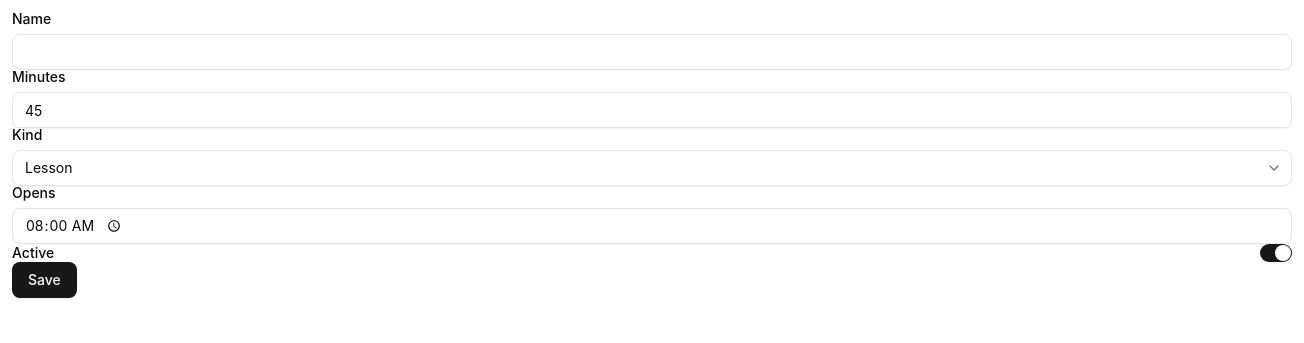
Test: form field components › shows 400 validation_error details inline next to the field
The image size is (1304, 343).
Type "Mitte" into the field labelled "Name" at point(652, 52), box 12,34 -> 1292,70
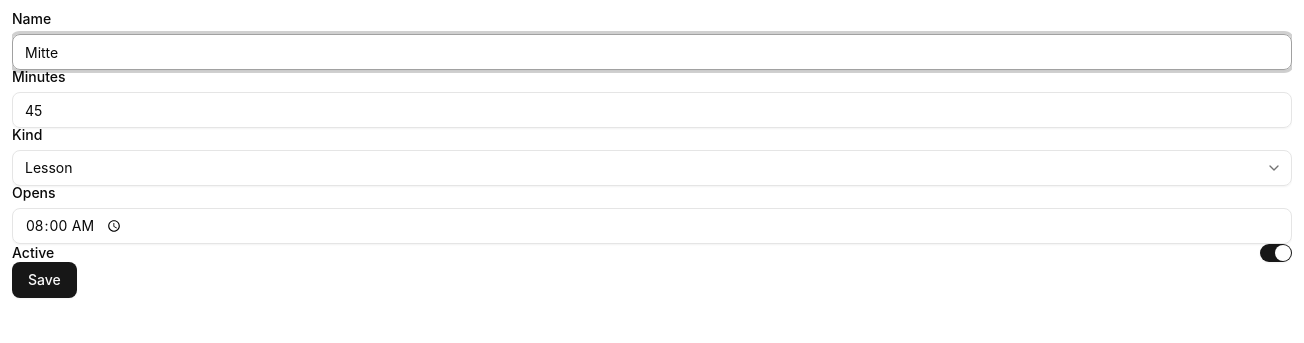
Click the button "Save" at point(44, 280), box 12,262 -> 77,298
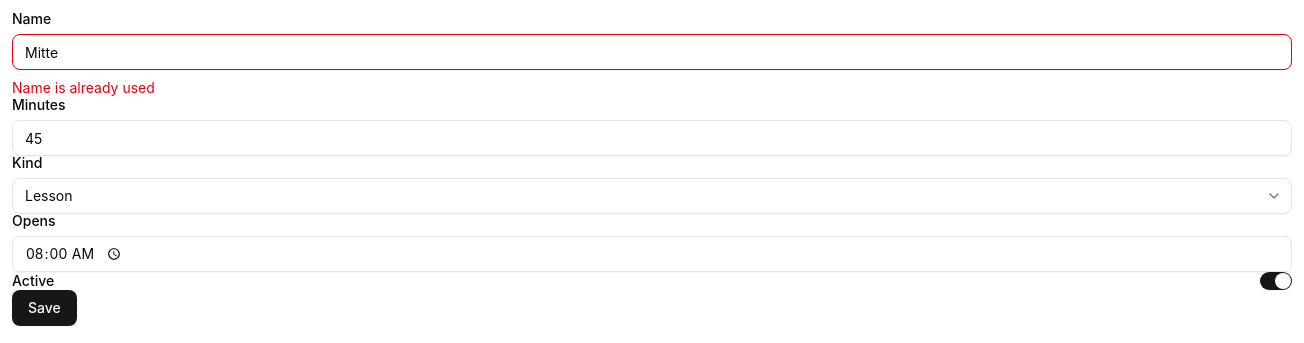
Now the text "Name is already used" is shown, box 12,79 -> 155,96
Type "2" into the field labelled "Name" at point(652, 52), box 12,34 -> 1292,70
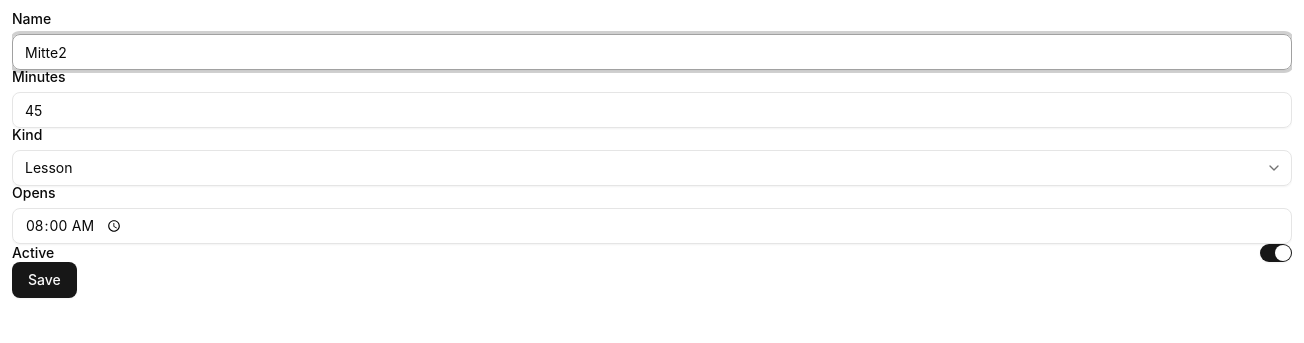
Now the text "Name is already used" is gone
